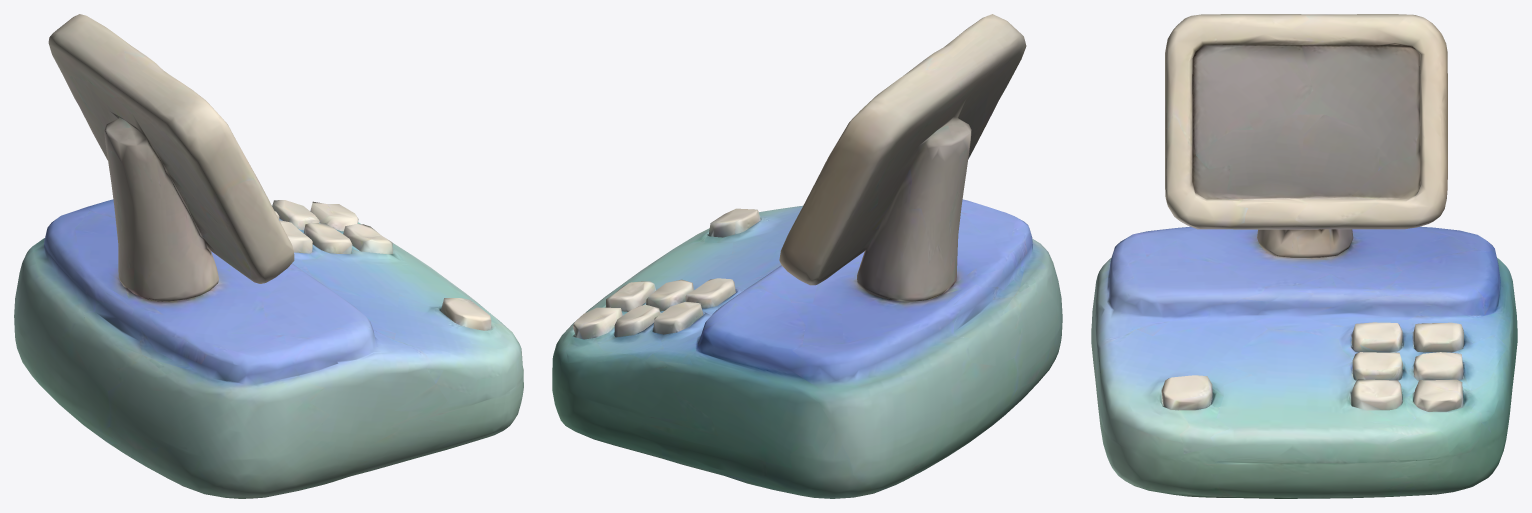
The model's file is pos.glb.
3 views of the same model, side by side, from view 1: azimuth 30°, elevation 25°; view 2: azimuth 150°, elevation 25°; view 3: azimuth 270°, elevation 25° (orthographic). The views are drawn at different scales.
Parts seen in each view (by area): view 1: tripo_node_56f4dece-c8fa-4524-be92-45527af48dc3; view 2: tripo_node_56f4dece-c8fa-4524-be92-45527af48dc3; view 3: tripo_node_56f4dece-c8fa-4524-be92-45527af48dc3.
Boxes of the visible parts, <box> form: tripo_node_56f4dece-c8fa-4524-be92-45527af48dc3: <box>14,14,523,498</box>; tripo_node_56f4dece-c8fa-4524-be92-45527af48dc3: <box>552,14,1062,498</box>; tripo_node_56f4dece-c8fa-4524-be92-45527af48dc3: <box>1091,14,1517,498</box>.
Bounding box in the file's own units: 0.9507 × 0.9364 × 1.
Materials: 1 (1 with a texture image).
